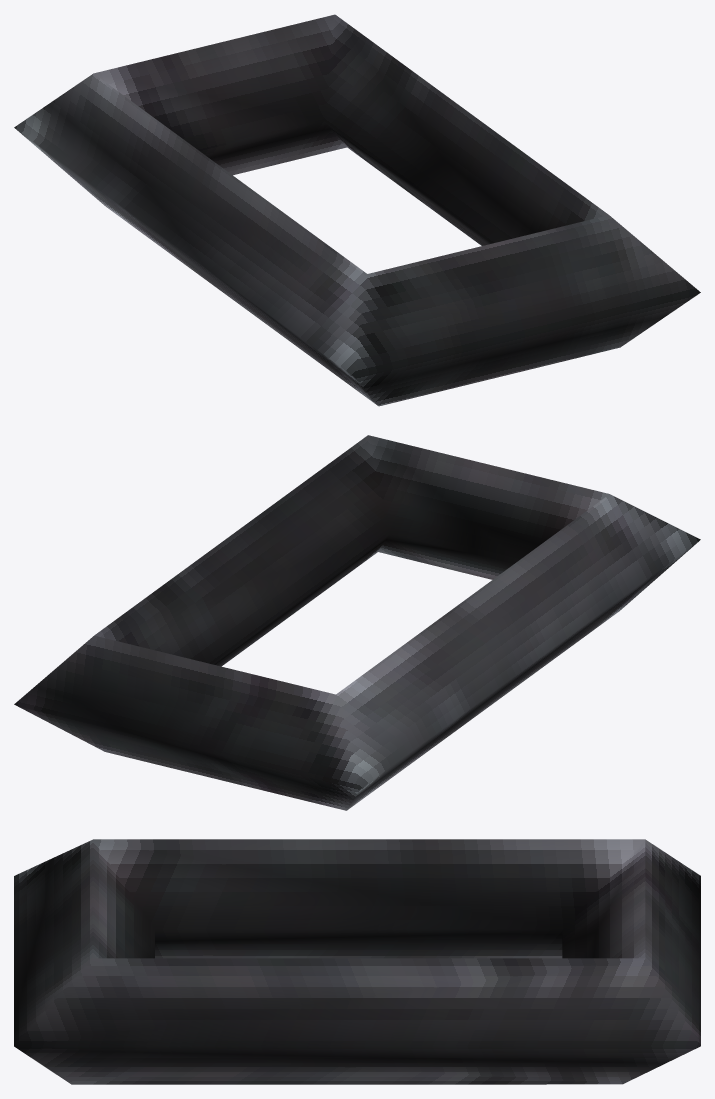
The model's file is yw_zhaoze_chain_001.FBX.
3 views of the same model, one above another, from view 1: azimuth 30°, elevation 25°; view 2: azimuth 150°, elevation 25°; view 3: azimuth 270°, elevation 25° (orthographic).
Parts seen in each view (by area): view 1: yw_zhaoze_chain_001; view 2: yw_zhaoze_chain_001; view 3: yw_zhaoze_chain_001.
Part boxes in pixels (x1=…): yw_zhaoze_chain_001: x1=14, y1=14, x2=700, y2=406; yw_zhaoze_chain_001: x1=14, y1=435, x2=700, y2=810; yw_zhaoze_chain_001: x1=14, y1=839, x2=700, y2=1084.
Size of the model in its own units: 22.94 by 39.09 by 7.91.
